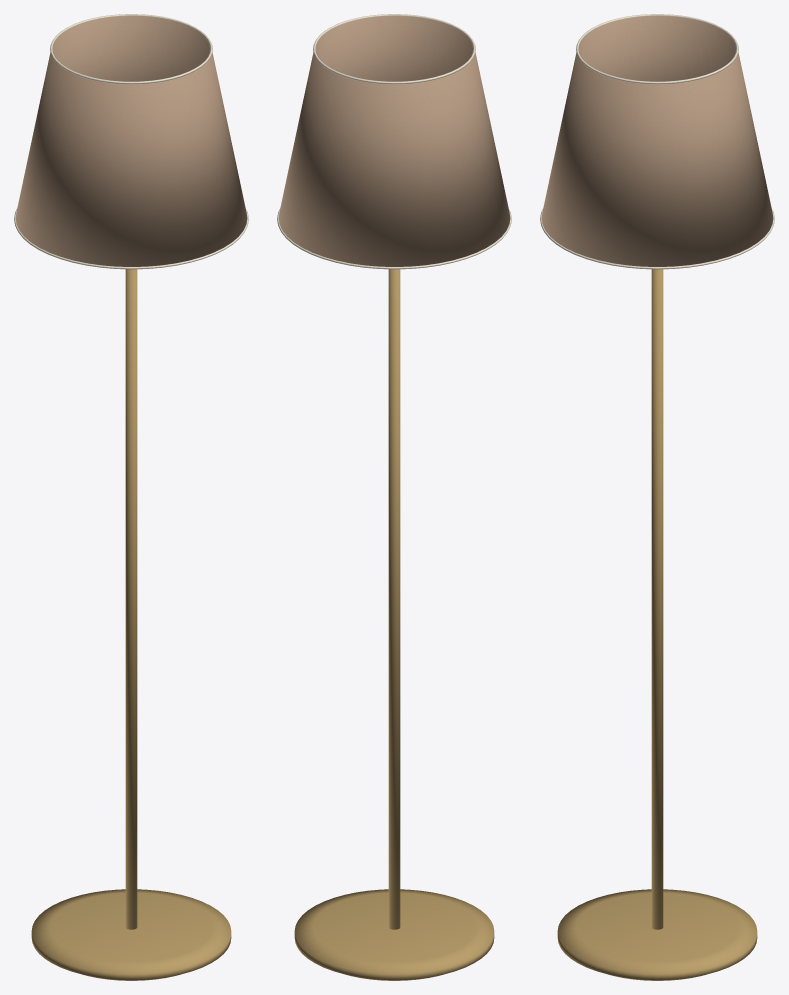
File: scandinavian.floor_lamp.gltf
3 renders of one model, left to right at view 1: azimuth 30°, elevation 25°; view 2: azimuth 150°, elevation 25°; view 3: azimuth 270°, elevation 25°, orthographic.
Visible parts, largest first — view 1: scandinavian.floor_lamp.foot; view 2: scandinavian.floor_lamp.foot; view 3: scandinavian.floor_lamp.foot.
Boxes of the visible parts, box(x1,y1,x2,y2) form: scandinavian.floor_lamp.foot: box(14, 14, 248, 980); scandinavian.floor_lamp.foot: box(277, 14, 511, 980); scandinavian.floor_lamp.foot: box(540, 14, 774, 980).
Bounding box in the file's own units: 0.364 × 1.53 × 0.364.
4 materials, 1 textured.
